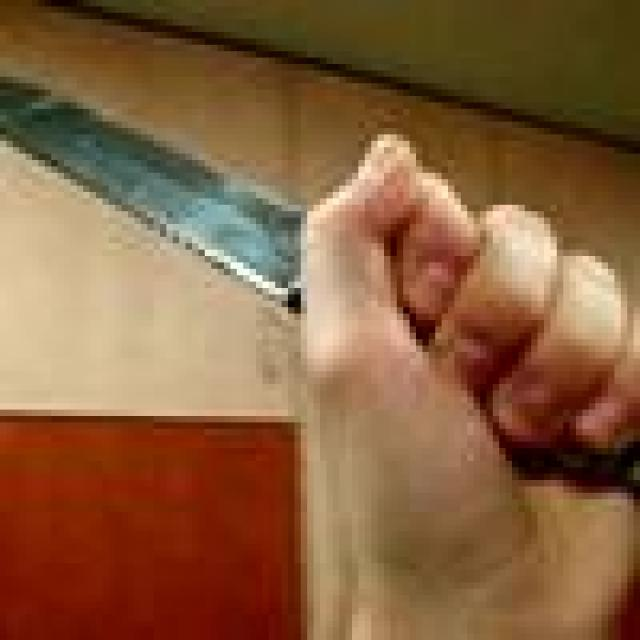knife: (0, 70, 300, 311)
